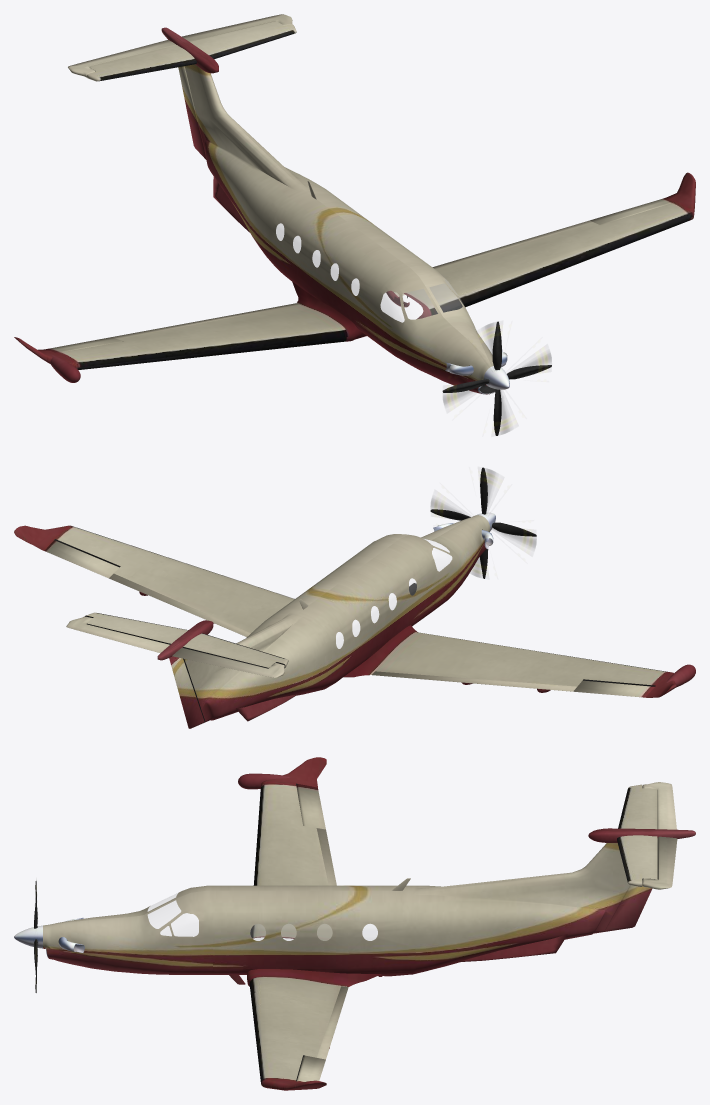
3 renders of one model, top to bottom at view 1: azimuth 30°, elevation 25°; view 2: azimuth 150°, elevation 25°; view 3: azimuth 270°, elevation 25°, orthographic. The views are drawn at different scales.
Visible parts, largest first — view 1: fuselage, ailes, ailes2, vitres, profondeur, helice, propblur, direction, ajout, voletG; view 2: fuselage, ailes, ailes2, profondeur, voletD, direction, helice, aileronG, voletG, vitres, aileronD, propblur (+3 smaller); view 3: fuselage, ailes, baie, ailes2, porte, profondeur, vitres, direction, ailes3, ajout, aileronD, voletG (+2 smaller).
Boxes of the visible parts, x1,y1,x2,y2 form: fuselage: (184, 64, 494, 394); ailes: (14, 172, 695, 369); ailes2: (87, 21, 296, 81); vitres: (276, 223, 463, 322); profondeur: (68, 14, 292, 77); helice: (442, 321, 551, 435); propblur: (443, 323, 551, 433); direction: (178, 66, 206, 159); ajout: (161, 27, 218, 73); voletG: (386, 220, 593, 302); fuselage: (184, 515, 489, 722); ailes: (14, 525, 676, 697); ailes2: (86, 612, 288, 667); profondeur: (66, 616, 284, 677); voletD: (372, 671, 576, 692); direction: (169, 656, 204, 728); helice: (430, 467, 536, 578); aileronG: (44, 540, 119, 578); voletG: (109, 573, 250, 636); vitres: (336, 538, 451, 648); aileronD: (573, 680, 654, 697); propblur: (431, 469, 535, 576); fuselage: (43, 843, 629, 976); ailes: (247, 757, 381, 1090); baie: (349, 906, 415, 973); ailes2: (617, 784, 657, 886); porte: (213, 906, 243, 972); profondeur: (642, 782, 677, 889); vitres: (148, 893, 332, 940); direction: (604, 885, 652, 931); ailes3: (458, 934, 567, 962); ajout: (588, 828, 695, 842); aileronD: (296, 784, 325, 829); voletG: (316, 986, 348, 1059).
Size of the model in its own units: 16.21 by 3.8 by 14.39.
Materials: 3 (2 with a texture image).
